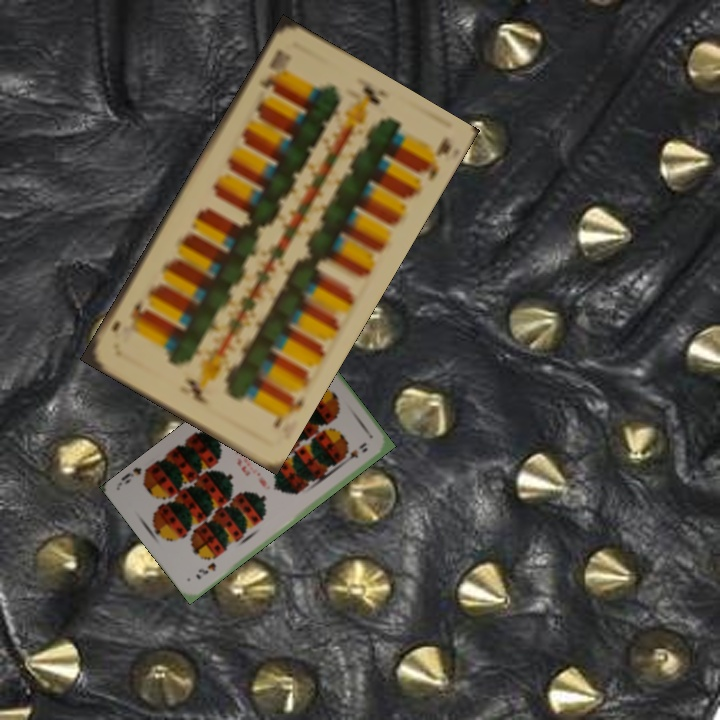E10: (255, 45, 287, 94), (269, 392, 308, 431)
S9: (192, 558, 219, 582)
